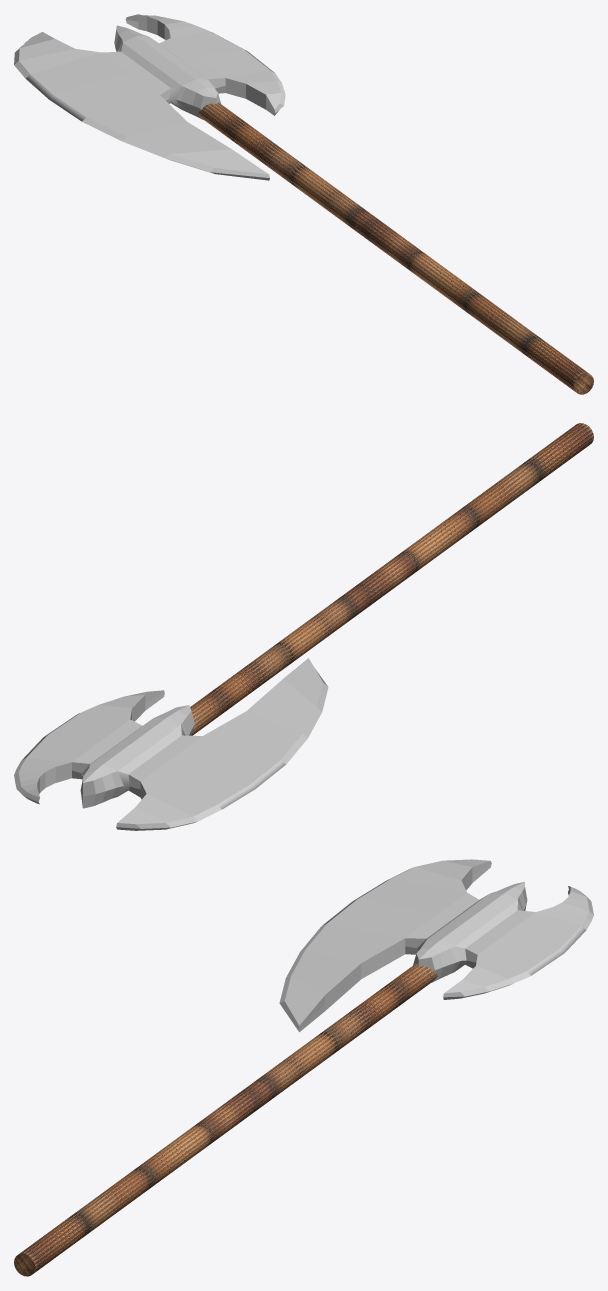
The model's file is machado1.obj.
The picture shows the model from 3 angles, top to bottom: view 1: azimuth 30°, elevation 25°; view 2: azimuth 150°, elevation 25°; view 3: azimuth 330°, elevation 25°; orthographic projection. The views are drawn at different scales.
Parts seen in each view (by area): view 1: machado1; view 2: machado1; view 3: machado1.
Boxes of the visible parts, x1=… form: machado1: x1=14, y1=14, x2=593, y2=394; machado1: x1=14, y1=423, x2=593, y2=830; machado1: x1=14, y1=859, x2=593, y2=1276.
Bounding box in the file's own units: 3.57 × 0.5321 × 15.26.
